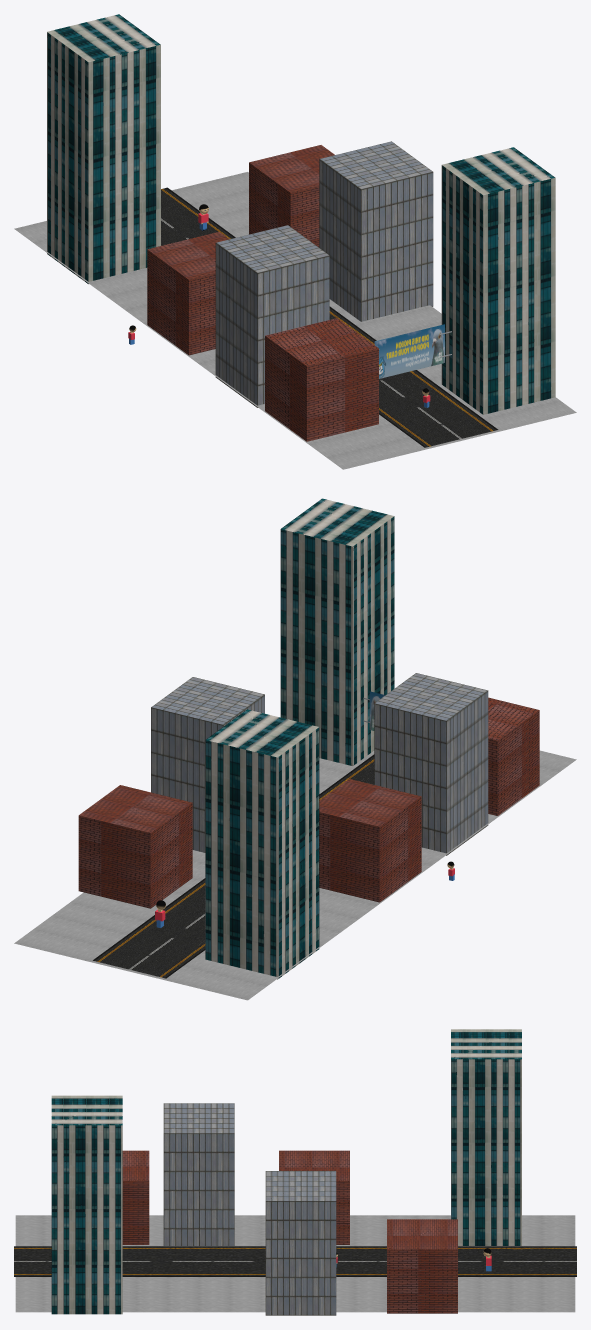
Rendered from mesto2_1.gltf.
3 renders of one model, top to bottom at view 1: azimuth 30°, elevation 25°; view 2: azimuth 150°, elevation 25°; view 3: azimuth 270°, elevation 25°, orthographic. The views are drawn at different scales.
Visible parts, largest first — view 1: bloki__levo.004, bloki_desno.004, cesta, bloki__levo.002, bloki_desno.002, bloki_desno.001, bloki_desno.003, bloki__levo.003, golob_ovira; view 2: bloki_desno.004, bloki__levo.004, cesta, bloki_desno.002, bloki__levo.003, bloki_desno.003, bloki__levo.002, bloki_desno.001; view 3: cesta, bloki__levo.004, bloki_desno.004, bloki__levo.002, bloki_desno.002, bloki__levo.003, bloki_desno.001, bloki_desno.003.
Part boxes in pixels (box(x1,y1,x2,y2)): bloki__levo.004: box(441, 147, 555, 414); bloki_desno.004: box(47, 14, 160, 284); cesta: box(14, 172, 576, 469); bloki__levo.002: box(319, 141, 433, 321); bloki_desno.002: box(215, 225, 329, 407); bloki_desno.001: box(265, 318, 378, 441); bloki_desno.003: box(147, 231, 229, 355); bloki__levo.003: box(249, 145, 334, 247); golob_ovira: box(374, 324, 451, 378); bloki_desno.004: box(205, 709, 319, 979); bloki__levo.004: box(280, 498, 394, 765); cesta: box(14, 750, 576, 1000); bloki_desno.002: box(374, 673, 488, 855); bloki__levo.003: box(78, 785, 192, 908); bloki_desno.003: box(319, 778, 421, 902); bloki__levo.002: box(151, 677, 264, 852); bloki_desno.001: box(488, 697, 539, 815); cesta: box(14, 1215, 576, 1312); bloki__levo.004: box(51, 1095, 122, 1314); bloki_desno.004: box(451, 1029, 521, 1245); bloki__levo.002: box(265, 1171, 336, 1315); bloki_desno.002: box(163, 1103, 234, 1245); bloki__levo.003: box(387, 1219, 457, 1313); bloki_desno.001: box(122, 1150, 149, 1244); bloki_desno.003: box(279, 1150, 349, 1244).
Size of the model in its own units: 11.23 by 8.41 by 22.73.
25 materials, 25 textured.
